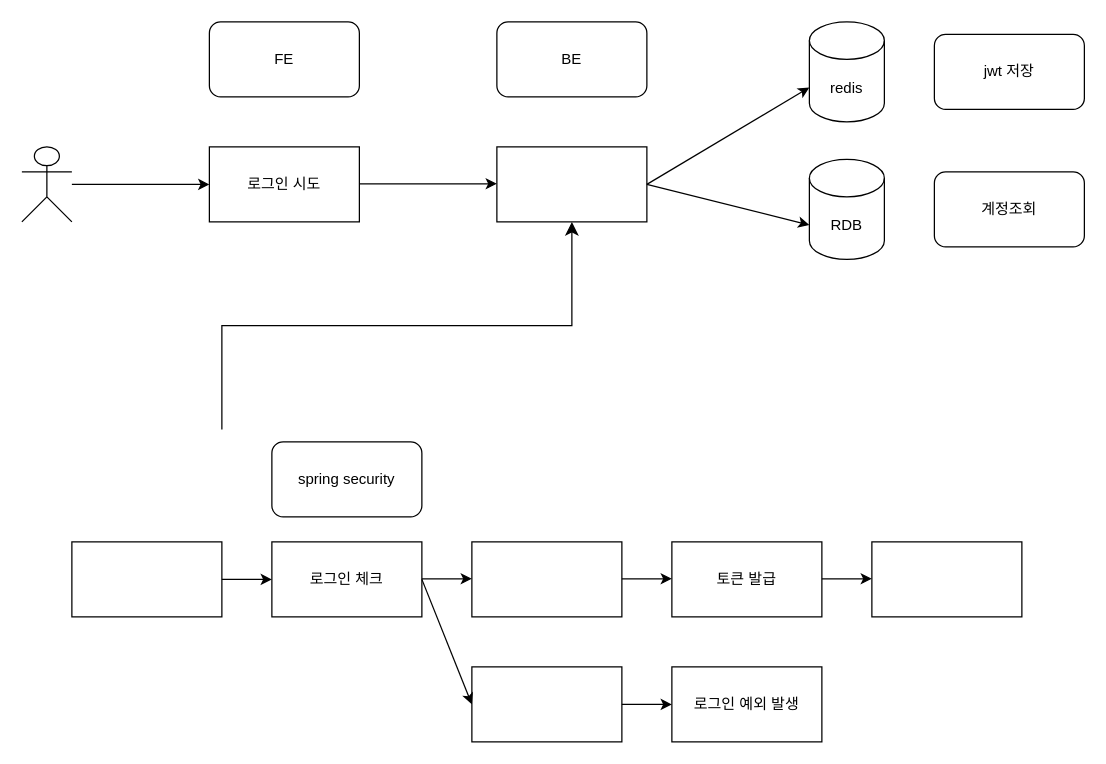
This 1106x764 diagram has some shape labels left out. The centre of each missing label's shape, as x and y in pixels:
"Actor" goes at point 46,184.
"로그인 검증" goes at point 571,184.
"로그인 파라미터" goes at point 146,579.
"성공" goes at point 546,579.
"실패" goes at point 546,704.
"해더로 전송" goes at point 946,579.
